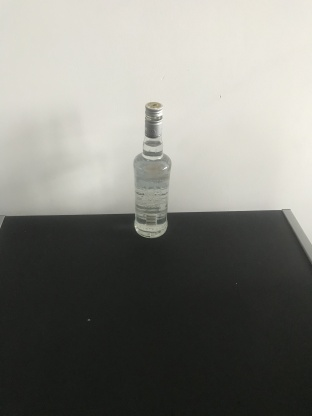nakretka: (143, 100, 164, 138)
